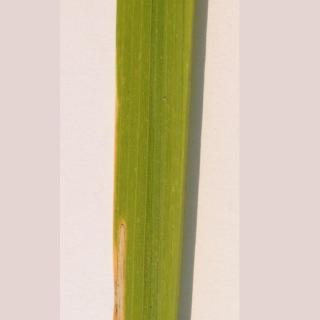Hawar-Daun: (103, 175, 143, 320)
